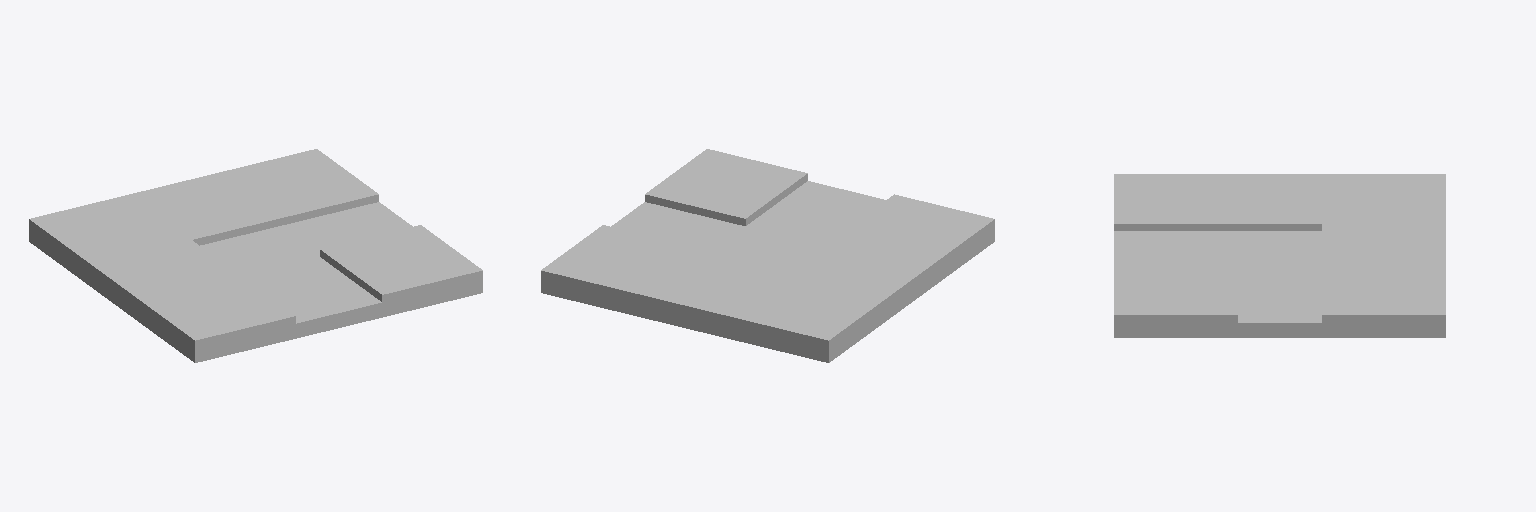
File: corner.obj
3 views of the same model, side by side, from view 1: azimuth 30°, elevation 25°; view 2: azimuth 150°, elevation 25°; view 3: azimuth 270°, elevation 25° (orthographic).
Visible parts, largest first — view 1: corner; view 2: corner; view 3: corner.
Boxes of the visible parts, box(x1,y1,x2,y2) form: corner: box(29, 149, 482, 362); corner: box(541, 149, 994, 362); corner: box(1114, 174, 1445, 337).
Size of the model in its own units: 40 by 3 by 40.